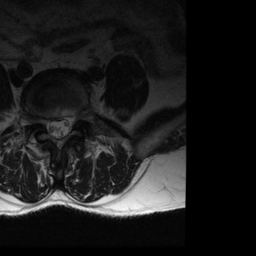CCS_normal: (53, 111, 63, 143)
LFS_normal: (72, 106, 81, 132)
LLS_normal: (64, 110, 71, 137)
RFS_stenosis: (38, 111, 45, 134)
RLS_normal: (46, 112, 54, 142)
